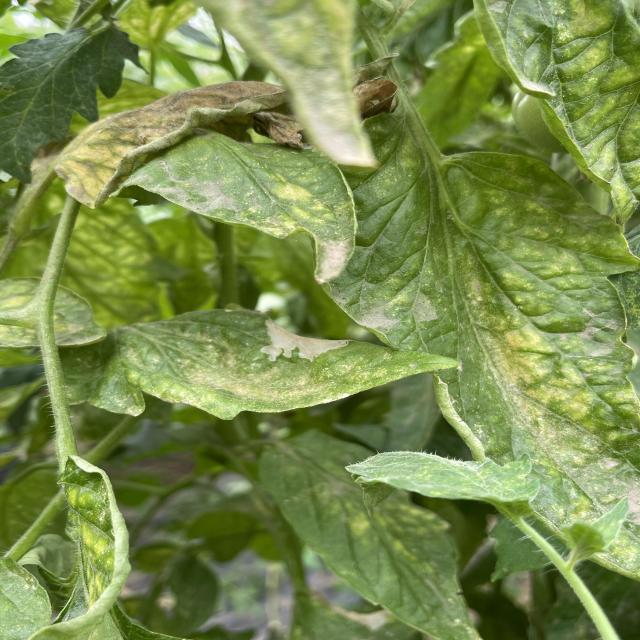Tuta absoluta: (259, 318, 350, 375)
